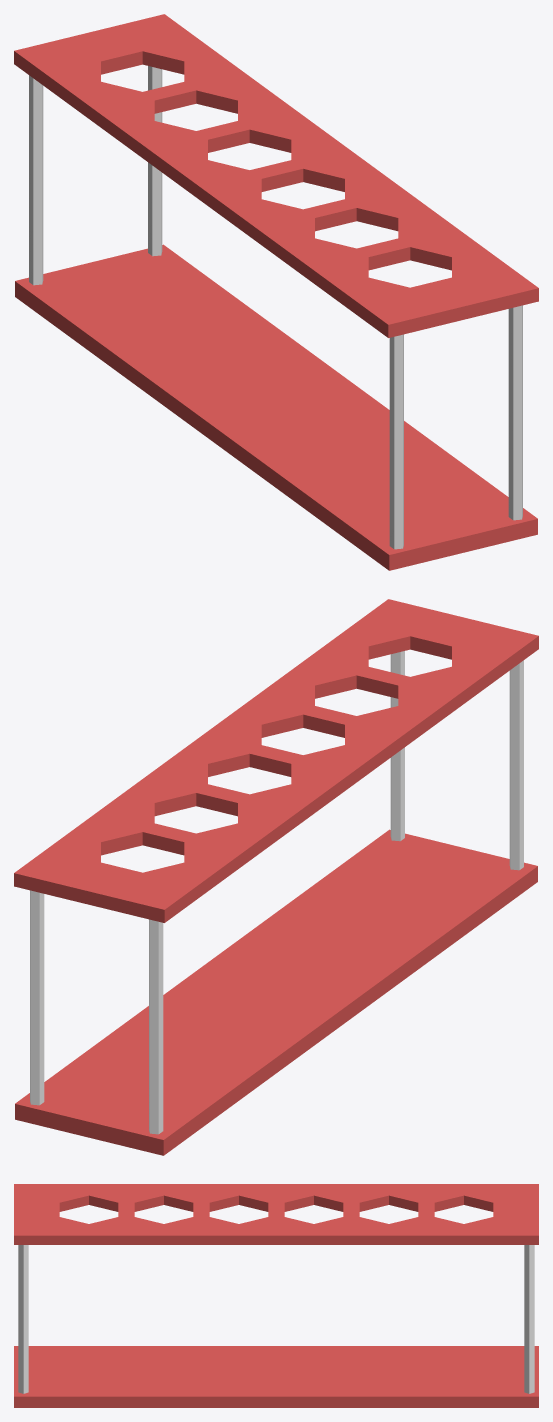
File: TubeHolder.fbx
3 renders of one model, top to bottom at view 1: azimuth 30°, elevation 25°; view 2: azimuth 150°, elevation 25°; view 3: azimuth 270°, elevation 25°, orthographic. The views are drawn at different scales.
Parts seen in each view (by area): view 1: Box002; view 2: Box002; view 3: Box002.
Boxes of the visible parts, x1,y1,x2,y2 form: Box002: [14, 14, 538, 570]; Box002: [14, 599, 538, 1155]; Box002: [14, 1184, 538, 1407].
Size of the model in its own units: 12.85 by 20.08 by 55.36.
